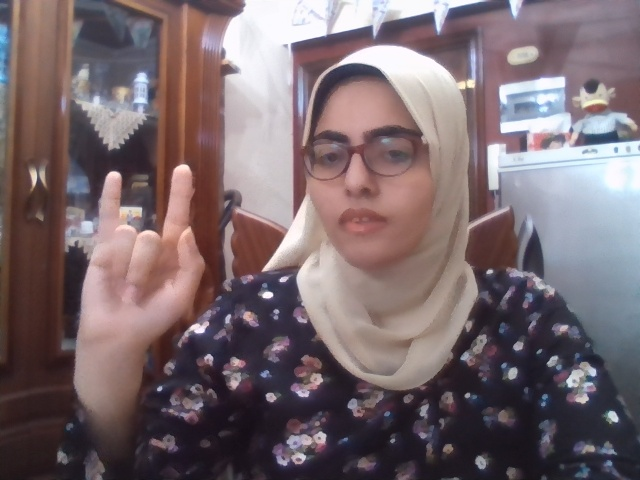iloveyou: (76, 164, 207, 349)
